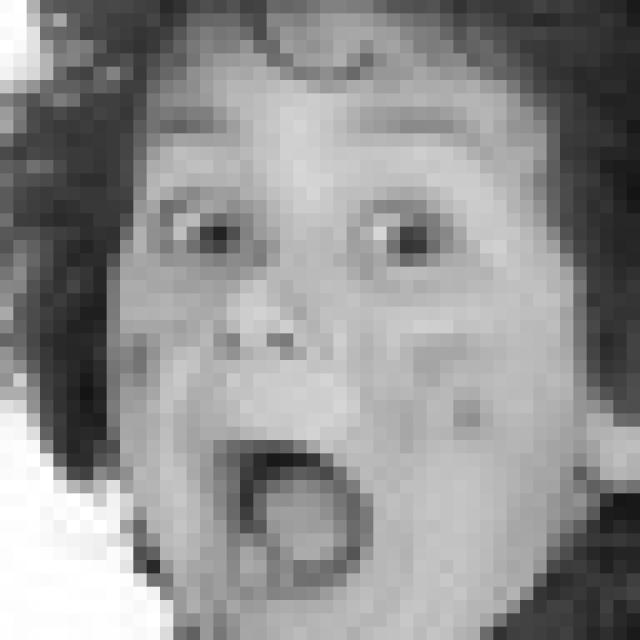surprise: (135, 95, 512, 596)
